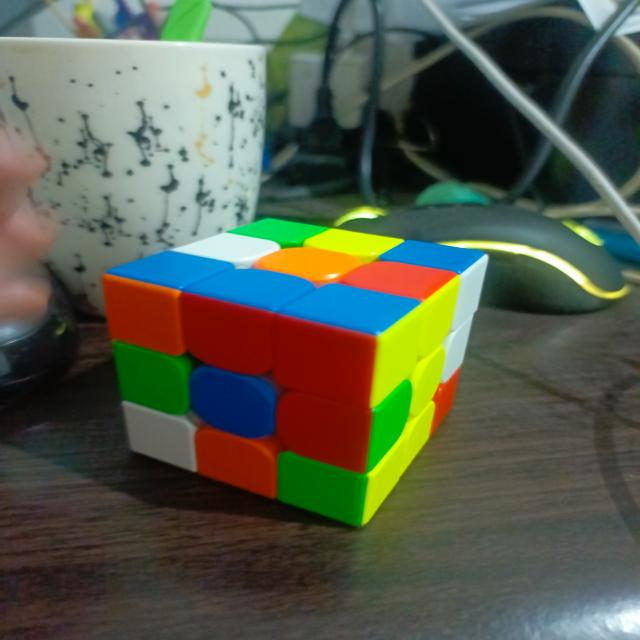rubik: (101, 215, 490, 527)
